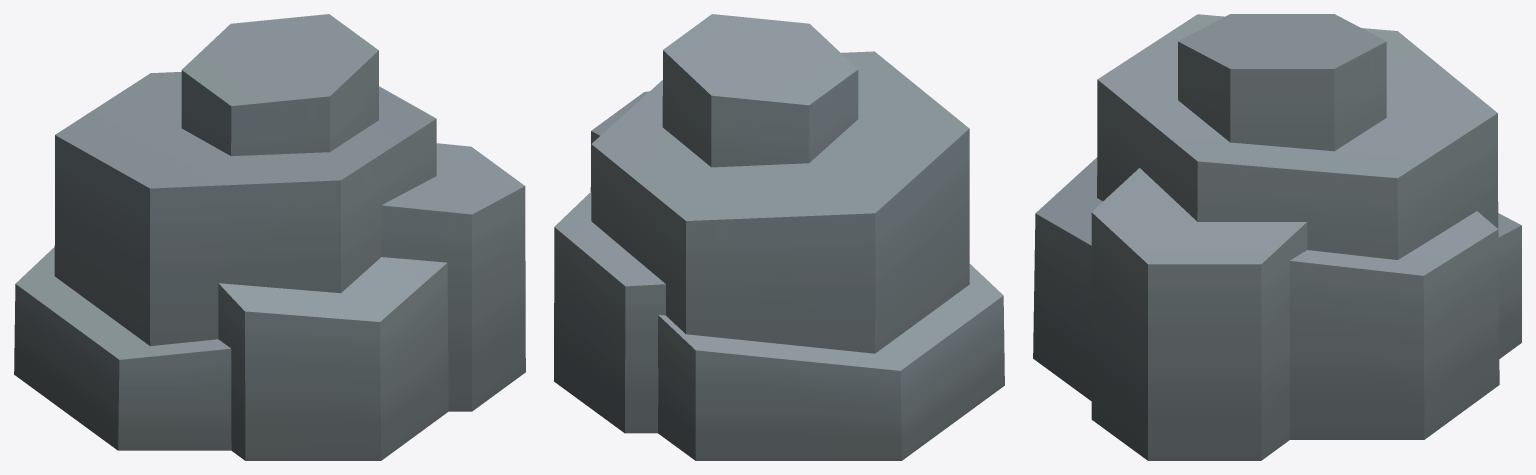
The model's file is kay-montanha-a.gltf.
3 views of the same model, side by side, from view 1: azimuth 30°, elevation 25°; view 2: azimuth 150°, elevation 25°; view 3: azimuth 270°, elevation 25° (orthographic). The views are drawn at different scales.
Visible parts, largest first — view 1: mountain_A; view 2: mountain_A; view 3: mountain_A.
Part boxes in pixels (box(x1,y1,x2,y2)): mountain_A: box(14, 14, 525, 460); mountain_A: box(554, 14, 1004, 460); mountain_A: box(1033, 14, 1521, 460).
Bounding box in the file's own units: 9.01 × 7.13 × 9.38.
1 material, 1 textured.
